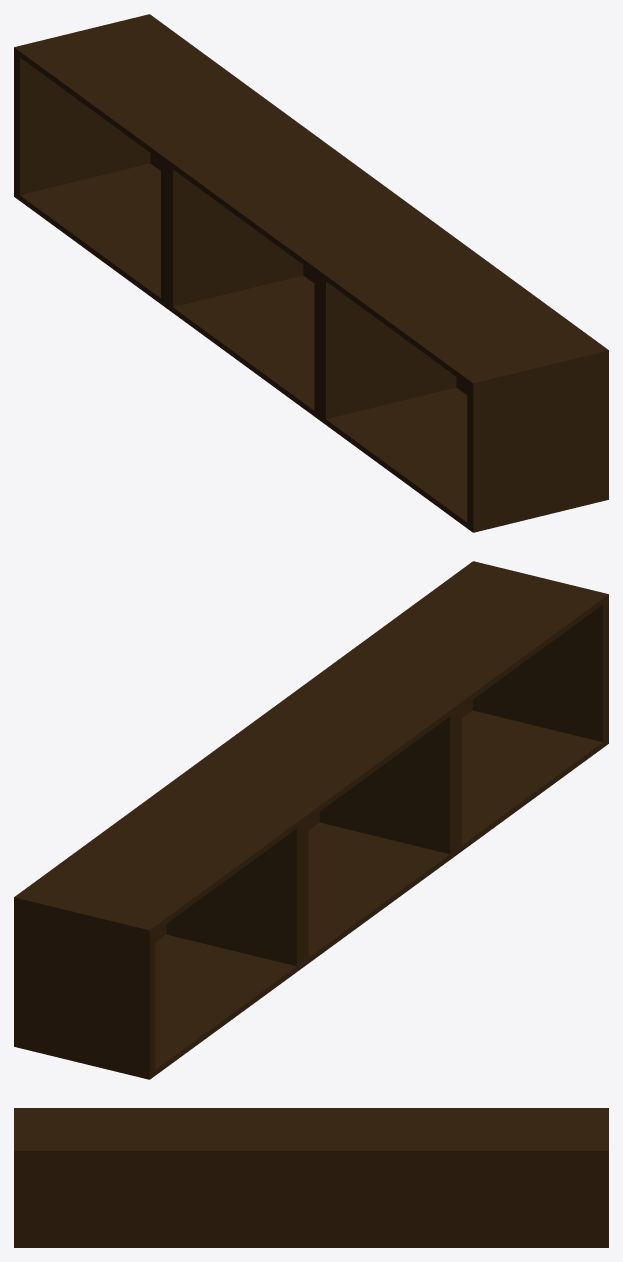
The model's file is ShelfK.fbx.
3 views of the same model, one above another, from view 1: azimuth 30°, elevation 25°; view 2: azimuth 150°, elevation 25°; view 3: azimuth 270°, elevation 25° (orthographic). The views are drawn at different scales.
Parts seen in each view (by area): view 1: Cube; view 2: Cube; view 3: Cube.
Part boxes in pixels (x1,y1,x2,y2): Cube: (14,14,608,532); Cube: (14,561,608,1079); Cube: (14,1108,608,1247).
Size of the model in its own units: 69.58 by 73.21 by 408.
